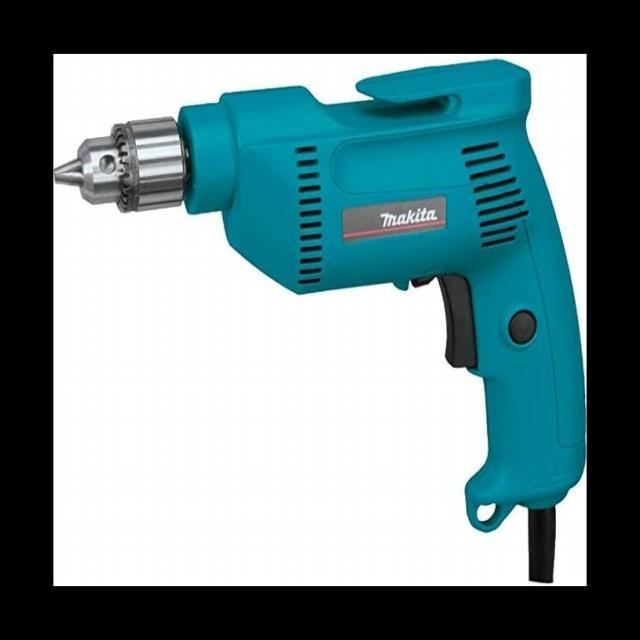drill: (54, 58, 587, 586)
